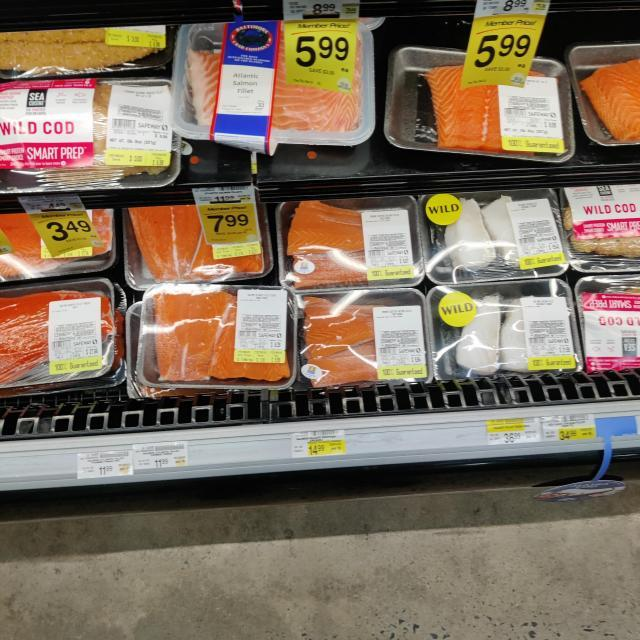Meat: (182, 26, 378, 147), (387, 48, 574, 154), (0, 82, 184, 186), (139, 284, 297, 386), (436, 281, 574, 382), (424, 194, 574, 280), (301, 289, 427, 389), (291, 197, 419, 291), (0, 279, 114, 384), (124, 210, 272, 282), (561, 186, 639, 268), (579, 278, 639, 378)
